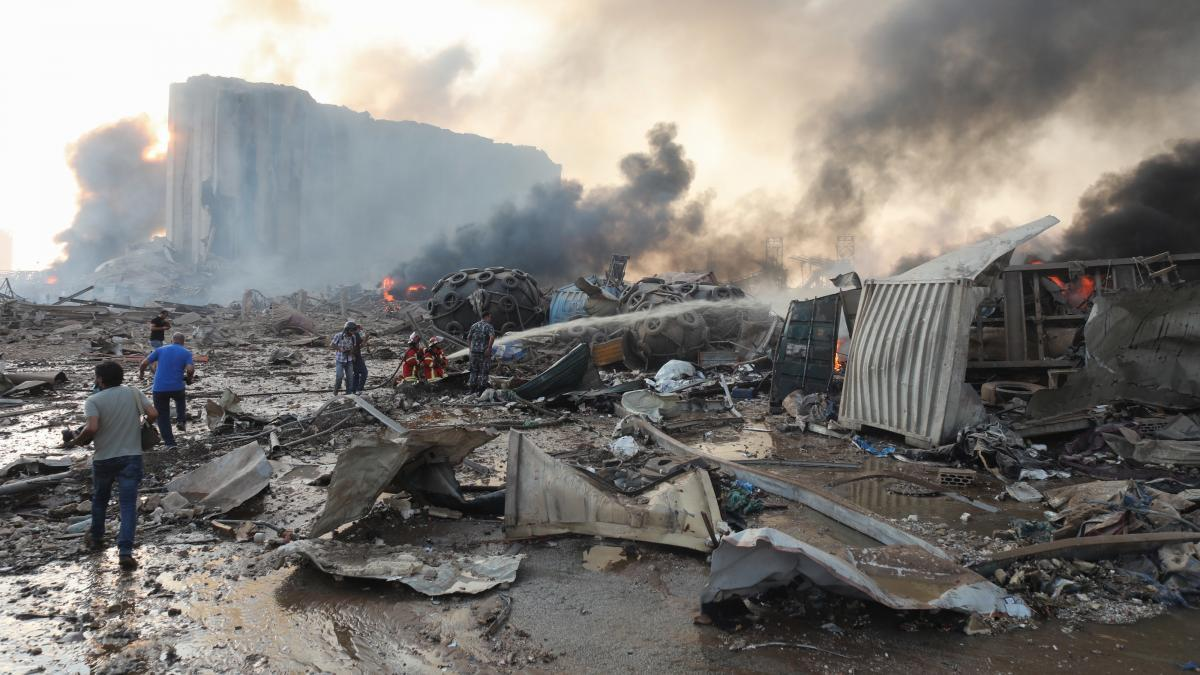fire: (1048, 273, 1094, 301), (381, 277, 396, 304), (834, 340, 842, 372)
smoke: (395, 133, 1052, 291), (792, 1, 1199, 133), (213, 175, 391, 302), (49, 113, 173, 280), (1056, 140, 1200, 260)
